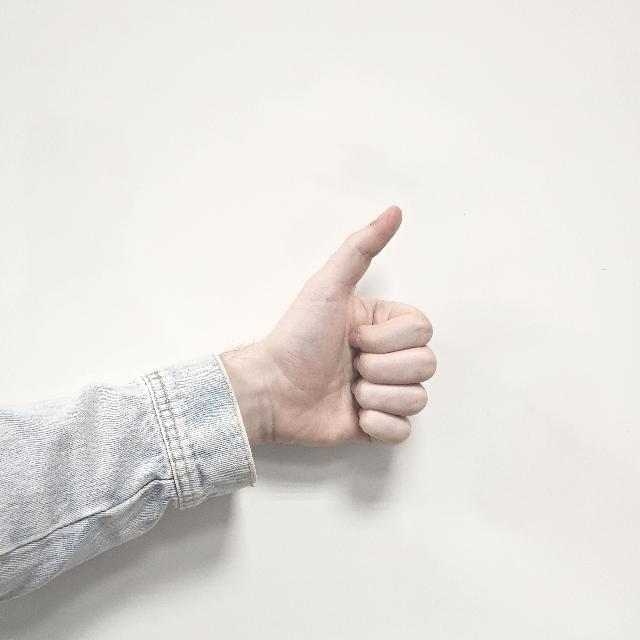Start: (236, 197, 442, 453)
